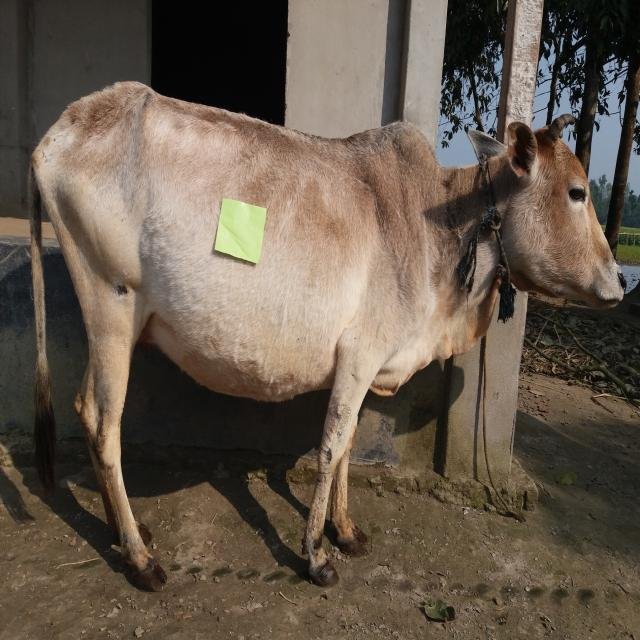badan_sapi: (29, 130, 384, 403)
sapi: (17, 78, 631, 582)
